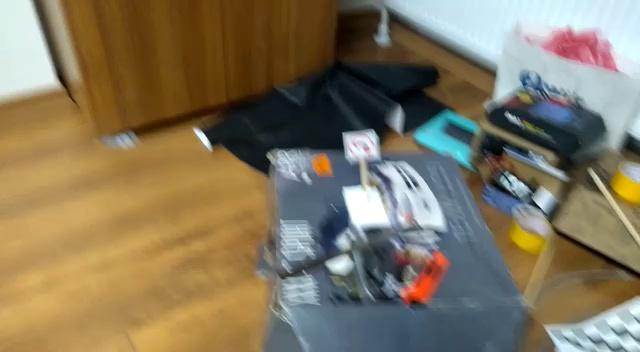sola_donulmez: (346, 134, 375, 159)
